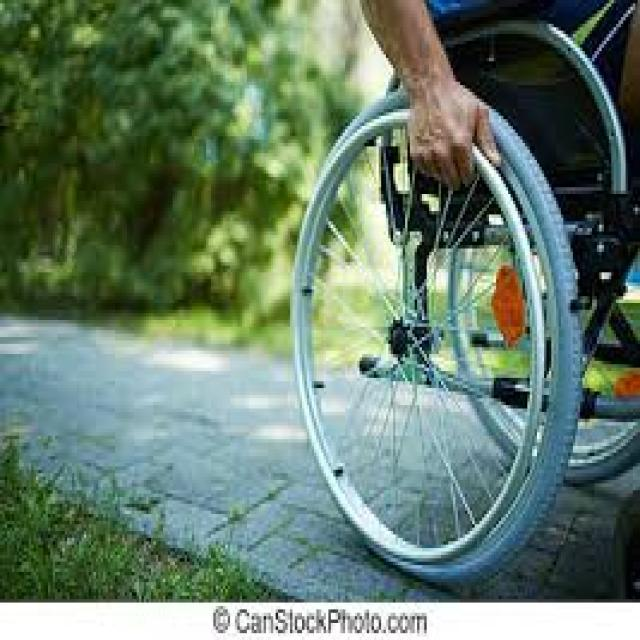wheelchairs: (286, 0, 630, 599)
